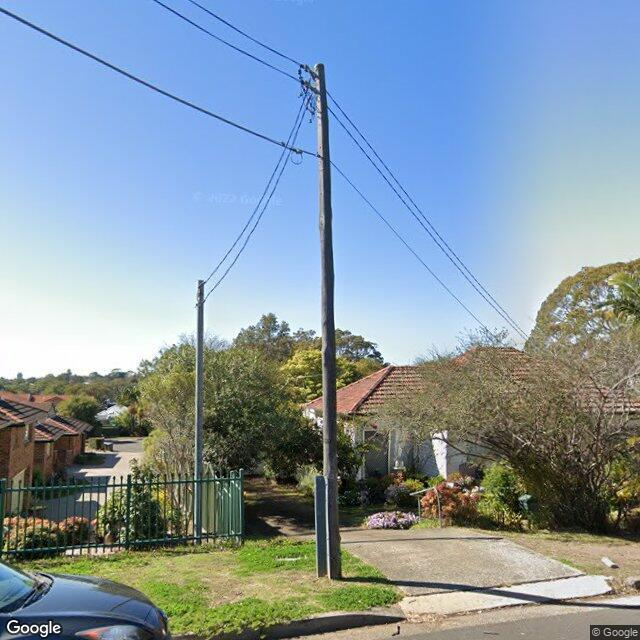steel-pole: (193, 279, 204, 547)
timber-pole: (314, 64, 342, 582)
